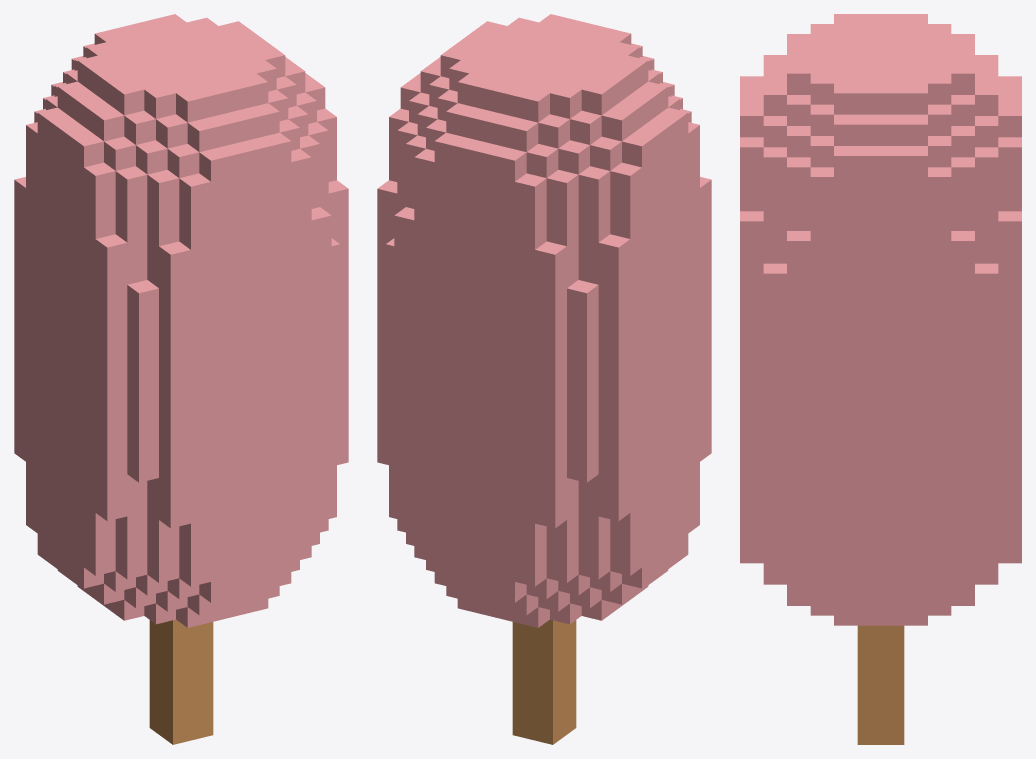
File: TreeBlossom_1.obj
The picture shows the model from 3 angles, left to right: view 1: azimuth 30°, elevation 25°; view 2: azimuth 150°, elevation 25°; view 3: azimuth 270°, elevation 25°; orthographic projection.
Size of the model in its own units: 1.2 by 3.2 by 1.2.
1 material, 1 textured.
